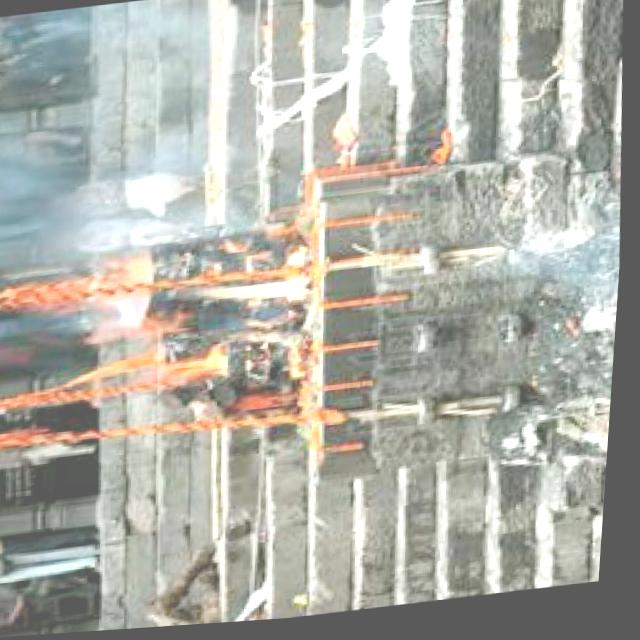Smoke: (66, 251, 327, 408)
